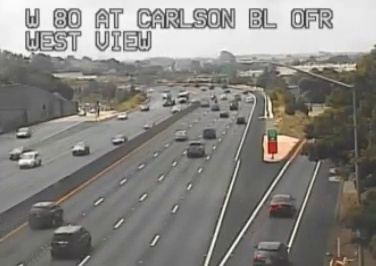car: (51, 226, 90, 257), (29, 202, 63, 228), (253, 242, 289, 266), (269, 195, 295, 216), (188, 142, 204, 155), (173, 130, 187, 141), (203, 128, 215, 139)
